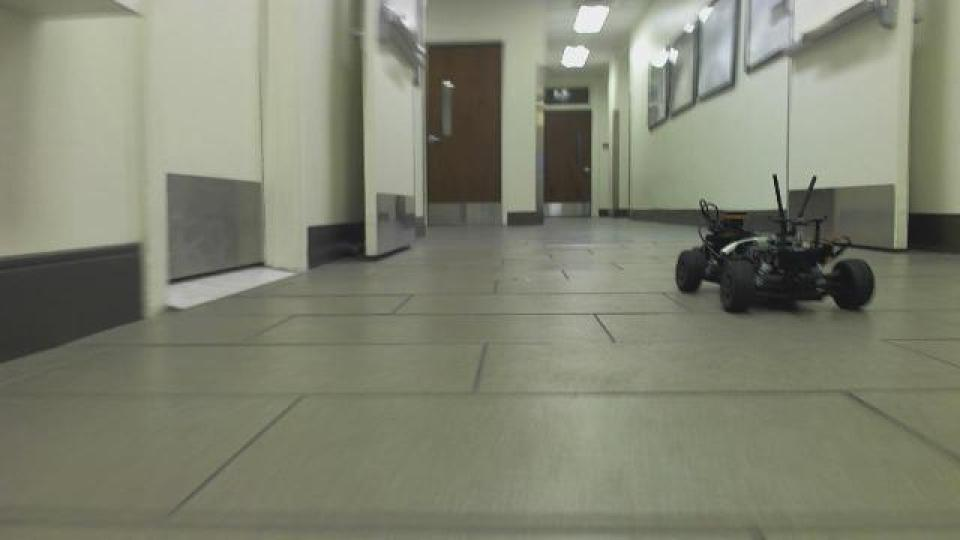car: (670, 170, 878, 316)
